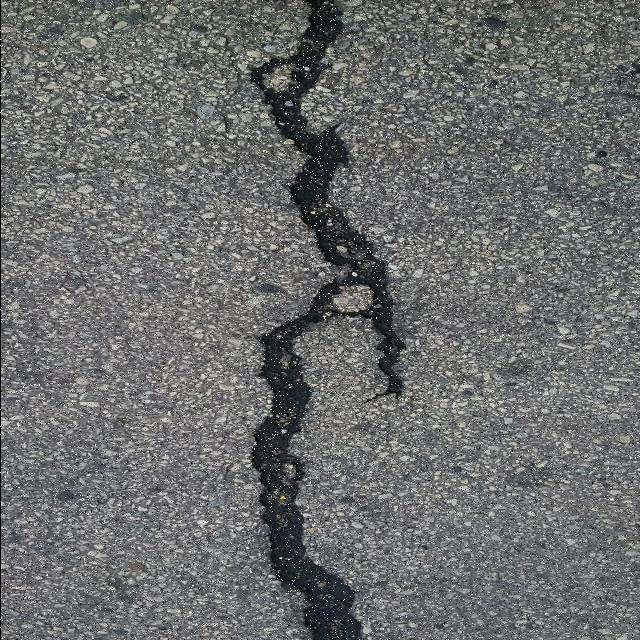Crack: (244, 0, 406, 640)
